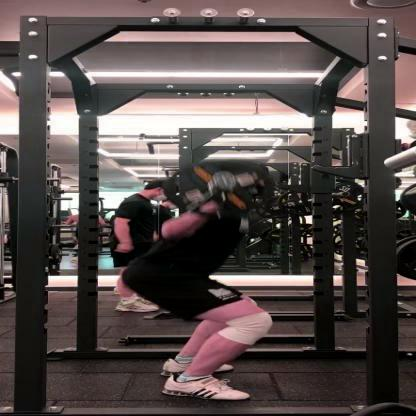Barbell: (205, 170, 237, 193)
